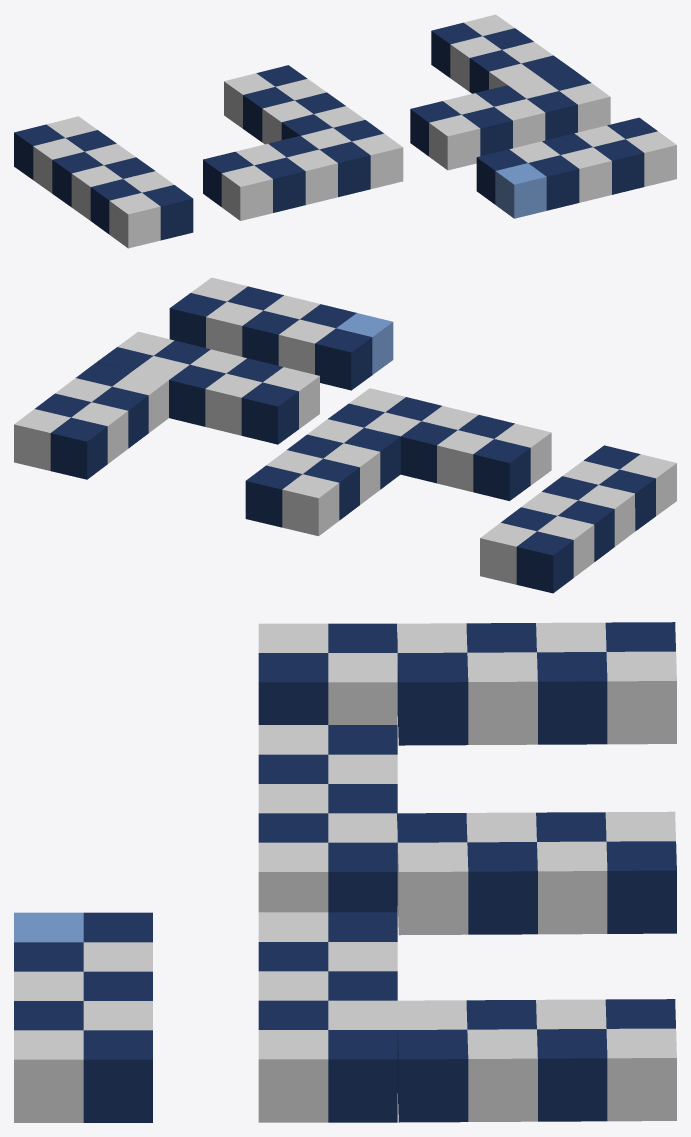
Rendered from noviblenderfriobarvan.fbx.
The picture shows the model from 3 angles, top to bottom: view 1: azimuth 30°, elevation 25°; view 2: azimuth 150°, elevation 25°; view 3: azimuth 270°, elevation 25°; orthographic projection. The views are drawn at different scales.
Visible parts, largest first — view 1: Cube.090, Cube.003, Cube.099, Cube.038, Cube.100, Cube.002, Cube.092, Cube.004, Cube.088, Cube.005, Cube.001, Cube.091 (+46 smaller); view 2: Cube.033, Cube.071, Cube.115, Cube.059, Cube.085, Cube.008, Cube.066, Cube.034, Cube.032, Cube.086, Cube.052, Cube.084 (+46 smaller); view 3: Cube.109, Cube.051, Cube.065, Cube.040, Cube.052, Cube.067, Cube.110, Cube.055, Cube.068, Cube.112, Cube.054, Cube.111 (+46 smaller).
Part boxes in pixels (x1=…): Cube.090: x1=221, y1=165, x2=272, y2=220; Cube.003: x1=495, y1=163, x2=546, y2=218; Cube.099: x1=109, y1=193, x2=160, y2=248; Cube.038: x1=429, y1=115, x2=480, y2=170; Cube.100: x1=142, y1=185, x2=193, y2=240; Cube.002: x1=528, y1=155, x2=579, y2=210; Cube.092: x1=352, y1=133, x2=403, y2=188; Cube.004: x1=561, y1=147, x2=611, y2=202; Cube.088: x1=319, y1=141, x2=370, y2=197; Cube.005: x1=593, y1=139, x2=644, y2=194; Cube.001: x1=626, y1=131, x2=676, y2=186; Cube.091: x1=254, y1=157, x2=305, y2=212; Cube.033: x1=241, y1=382, x2=298, y2=444; Cube.071: x1=282, y1=474, x2=339, y2=536; Cube.115: x1=516, y1=531, x2=573, y2=593; Cube.059: x1=50, y1=417, x2=107, y2=479; Cube.085: x1=473, y1=439, x2=530, y2=500; Cube.008: x1=315, y1=328, x2=372, y2=390; Cube.066: x1=245, y1=465, x2=302, y2=527; Cube.034: x1=169, y1=364, x2=225, y2=426; Cube.032: x1=205, y1=373, x2=262, y2=435; Cube.086: x1=400, y1=421, x2=457, y2=483; Cube.052: x1=14, y1=409, x2=70, y2=470; Cube.084: x1=437, y1=430, x2=493, y2=491; Cube.109: x1=397, y1=652, x2=468, y2=745; Cube.051: x1=397, y1=1029, x2=468, y2=1122; Cube.065: x1=397, y1=842, x2=468, y2=935; Cube.040: x1=258, y1=1030, x2=328, y2=1122; Cube.052: x1=606, y1=1028, x2=676, y2=1121; Cube.067: x1=537, y1=841, x2=607, y2=934; Cube.110: x1=606, y1=651, x2=676, y2=744; Cube.055: x1=467, y1=1029, x2=537, y2=1121; Cube.068: x1=467, y1=842, x2=537, y2=934; Cube.112: x1=467, y1=652, x2=537, y2=744; Cube.054: x1=537, y1=1029, x2=607, y2=1121; Cube.111: x1=537, y1=652, x2=607, y2=744.
Bounding box in the file's own units: 14.54 × 0.9769 × 9.31.
